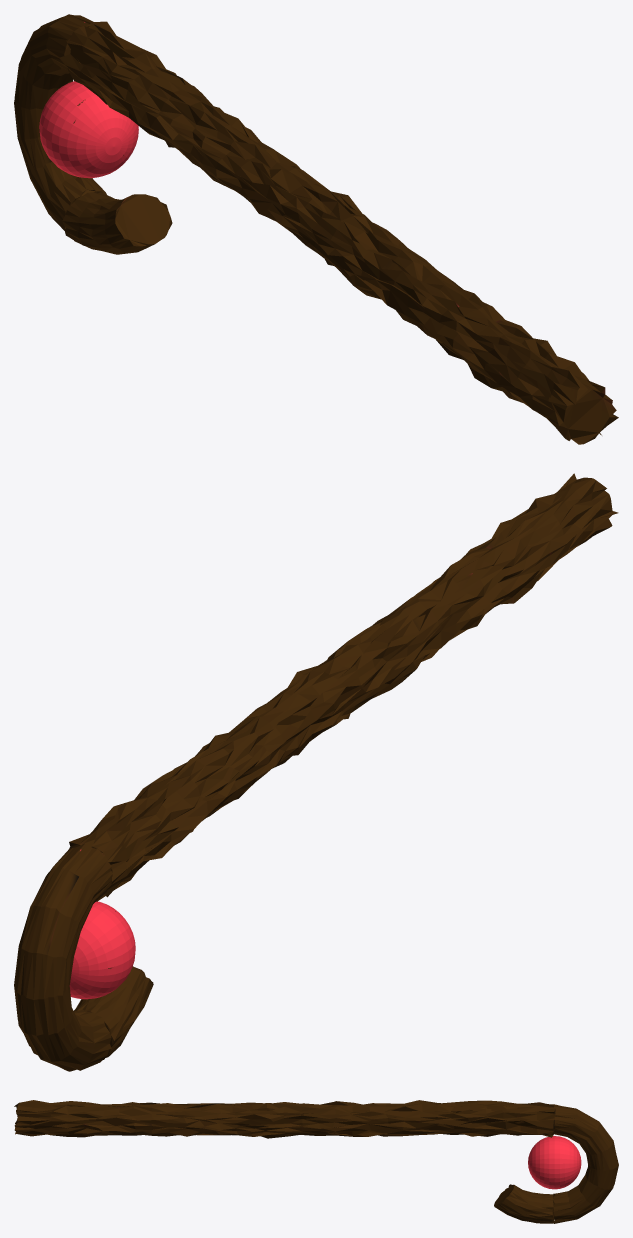
The model's file is cane.obj.
The picture shows the model from 3 angles, top to bottom: view 1: azimuth 30°, elevation 25°; view 2: azimuth 150°, elevation 25°; view 3: azimuth 270°, elevation 25°; orthographic projection. The views are drawn at different scales.
Visible parts, largest first — view 1: 円柱_円柱.001; view 2: 円柱_円柱.001; view 3: 円柱_円柱.001.
Part boxes in pixels (box(x1,y1,x2,y2)): 円柱_円柱.001: box(14, 14, 618, 444); 円柱_円柱.001: box(14, 473, 618, 1071); 円柱_円柱.001: box(14, 1100, 618, 1223).
Bounding box in the file's own units: 0.516 × 1.28 × 5.84.
Materials: 4 (4 with a texture image).
